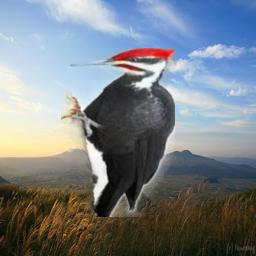Woodpecker: (61, 48, 175, 217)
